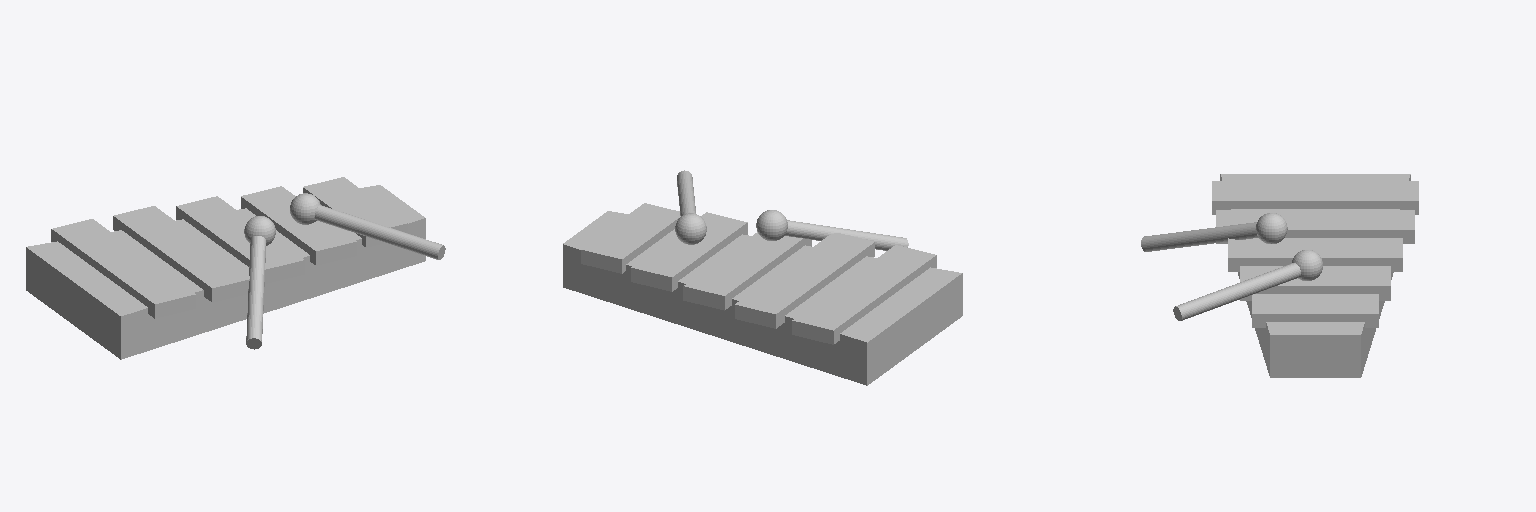
The model's file is Xylophone.obj.
3 renders of one model, left to right at view 1: azimuth 30°, elevation 25°; view 2: azimuth 150°, elevation 25°; view 3: azimuth 270°, elevation 25°, orthographic.
Visible parts, largest first — view 1: Xylophone; view 2: Xylophone; view 3: Xylophone.
Boxes of the visible parts, x1,y1,x2,y2 form: Xylophone: [26, 177, 445, 359]; Xylophone: [563, 170, 962, 385]; Xylophone: [1141, 174, 1418, 377].
Size of the model in its own units: 4.79 by 1.16 by 3.5.